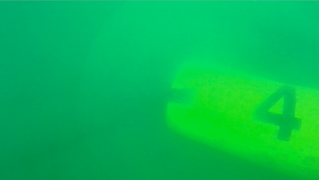4: (254, 85, 302, 142)
pipe: (165, 60, 319, 180)
